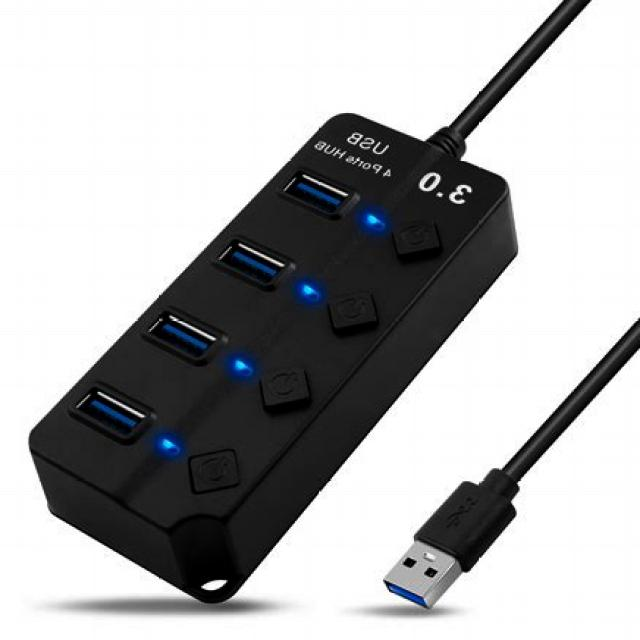usb port: (81, 389, 151, 430), (283, 170, 360, 207), (150, 313, 222, 349), (222, 241, 290, 276)
